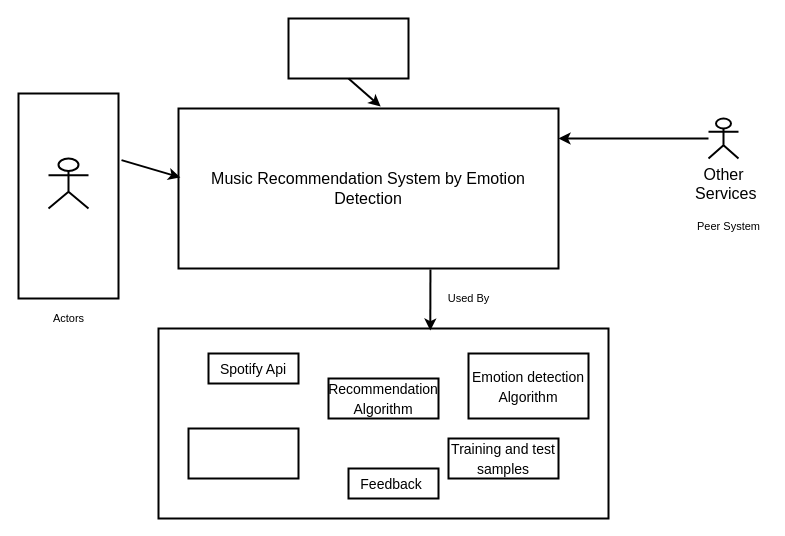
The diagram is 785 pixels wide and 536 high, and some of its shapes have lost their labels. The centre of each missing label's shape, as x and y in pixels:
Camera Sensor: the point at 348,48
Customer: the point at 68,183
Music Player: the point at 243,453
